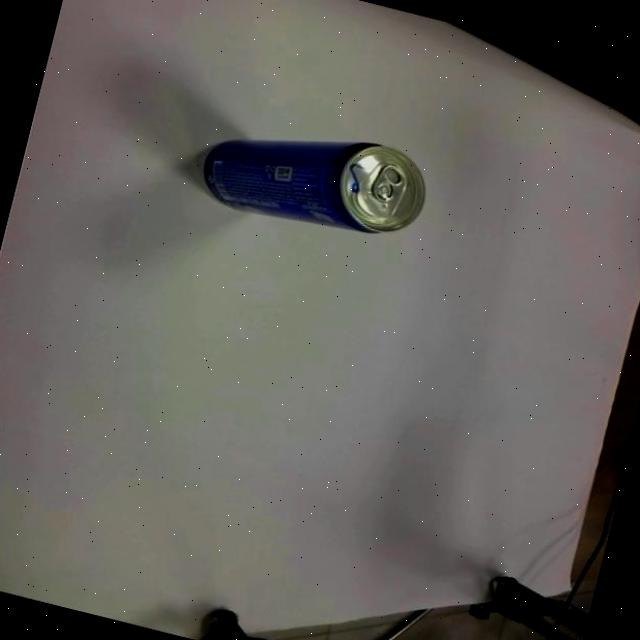debris: (193, 103, 436, 254)
